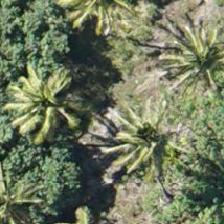coconut_tree: (4, 60, 94, 150), (110, 98, 200, 188), (158, 18, 223, 108), (0, 157, 55, 223)
